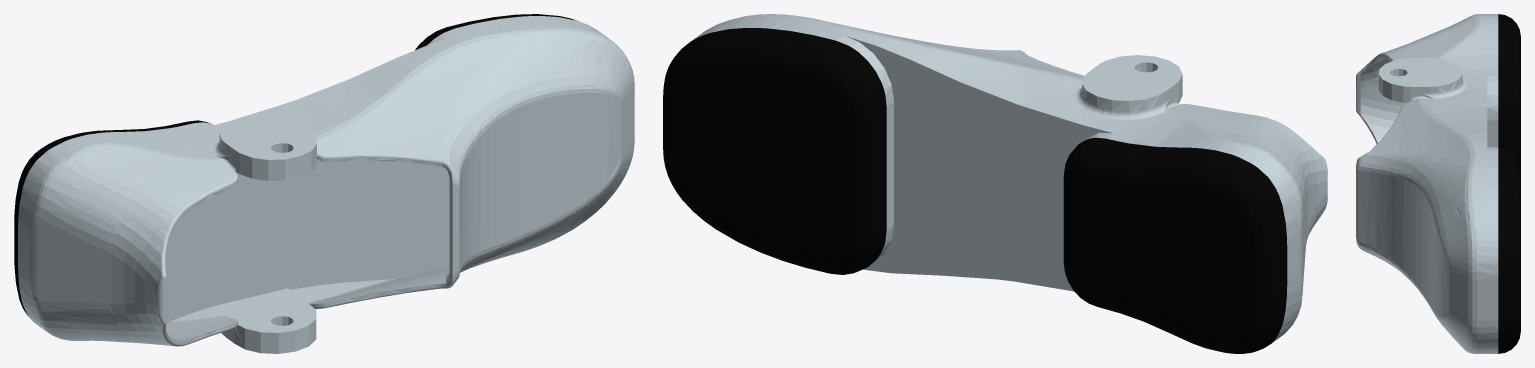
File: right_ankle_pitch_link.dae
3 views of the same model, side by side, from view 1: azimuth 30°, elevation 25°; view 2: azimuth 150°, elevation 25°; view 3: azimuth 270°, elevation 25° (orthographic). The views are drawn at different scales.
Parts seen in each view (by area): view 1: right_ankle_pitch_link; view 2: right_ankle_pitch_link; view 3: right_ankle_pitch_link.
Part boxes in pixels (x1,y1,x2,y2): right_ankle_pitch_link: (14, 14, 634, 353); right_ankle_pitch_link: (663, 14, 1327, 353); right_ankle_pitch_link: (1356, 14, 1520, 353).
Size of the model in its own units: 0.24 by 0.0856 by 0.0733.
